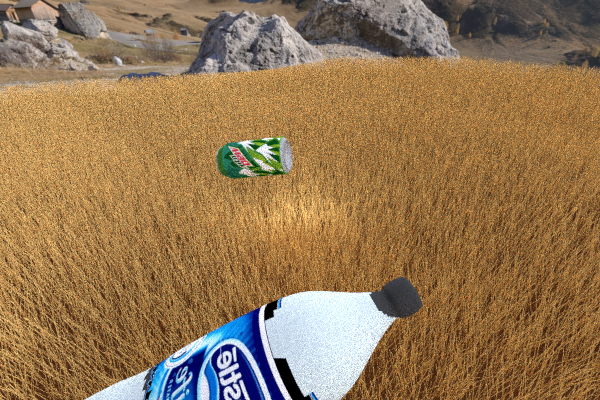bottle: (0, 276, 422, 400)
can: (215, 136, 292, 178), (384, 106, 415, 144)
